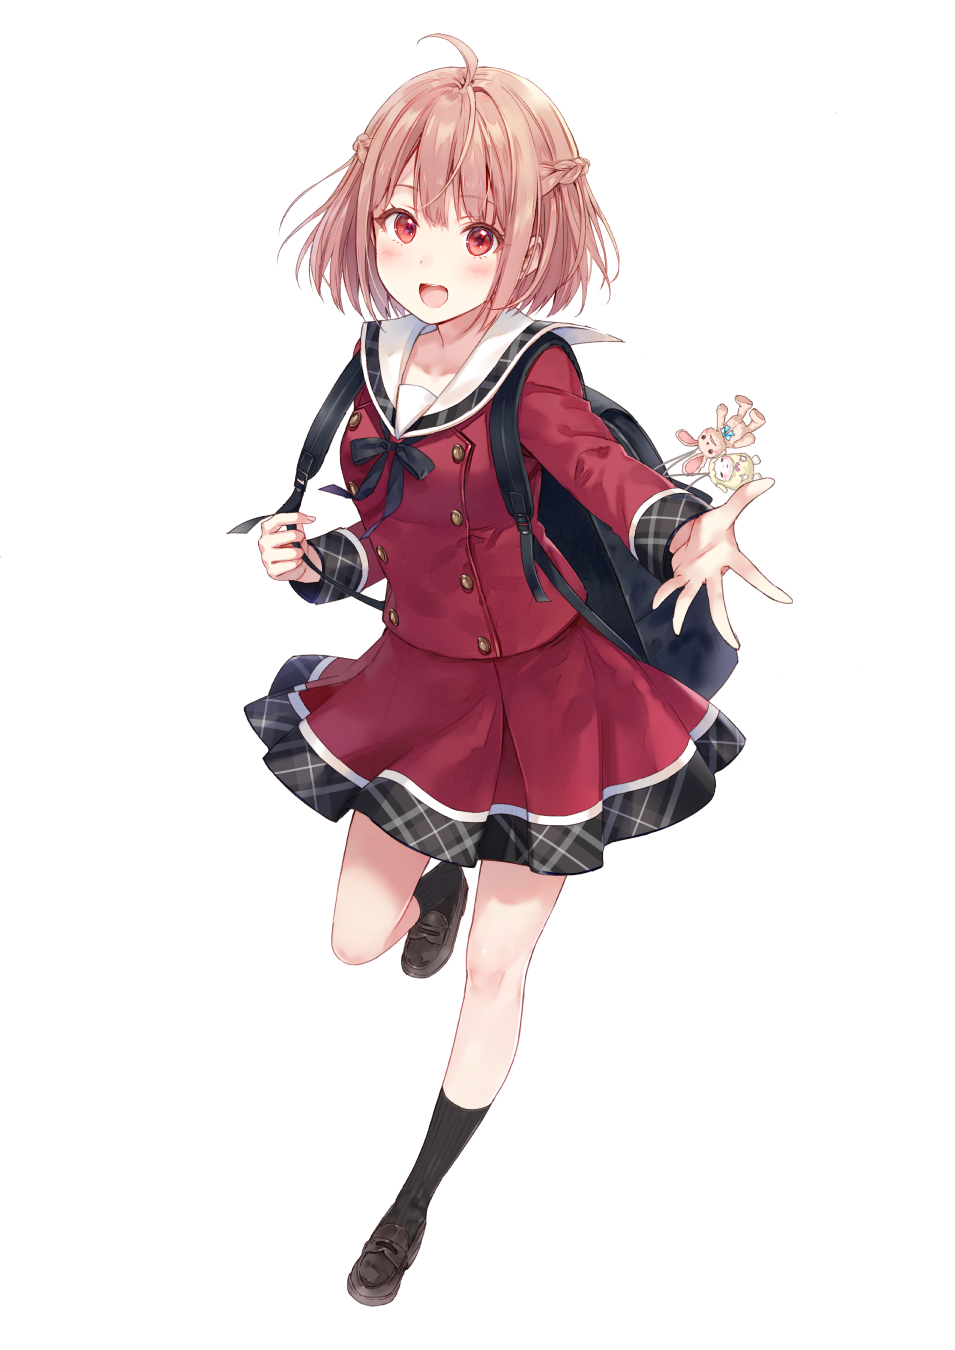纸片人正脸: (309, 20, 619, 335)
